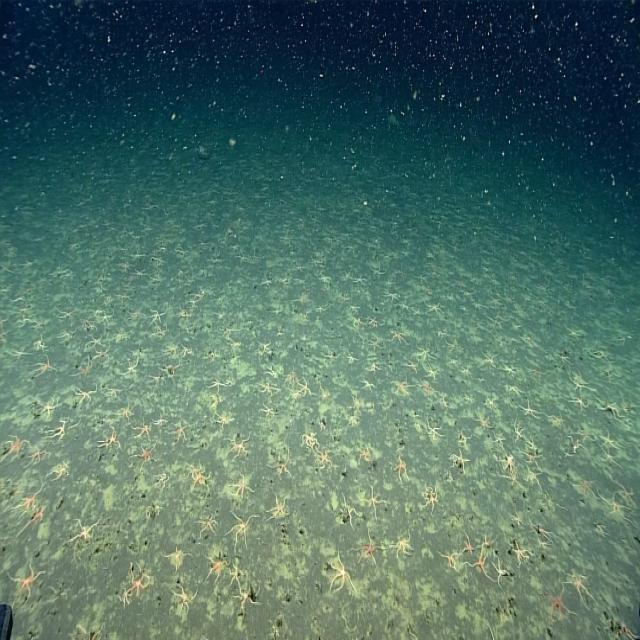brittle-stars: (6, 560, 44, 609), (567, 572, 597, 612), (227, 508, 255, 548), (331, 550, 355, 596), (542, 589, 576, 620), (599, 491, 632, 522), (468, 545, 494, 581), (355, 531, 381, 566), (172, 582, 198, 616), (268, 446, 292, 482), (363, 488, 386, 522), (11, 484, 41, 510), (69, 517, 100, 542), (163, 545, 190, 573), (1, 434, 28, 462), (340, 493, 360, 530), (18, 508, 44, 535), (229, 473, 256, 499), (205, 554, 228, 584), (265, 496, 290, 523), (490, 556, 509, 590), (390, 531, 413, 559), (233, 584, 261, 607), (438, 548, 466, 570), (127, 569, 147, 599), (195, 514, 218, 538), (510, 542, 533, 566), (226, 437, 251, 459), (77, 621, 105, 640), (134, 446, 157, 469), (599, 443, 621, 467), (568, 375, 595, 394), (393, 455, 410, 485), (450, 448, 471, 472), (169, 421, 189, 445), (70, 359, 94, 379), (44, 461, 66, 482), (42, 420, 65, 440), (38, 396, 58, 418), (131, 422, 153, 442), (574, 478, 596, 498), (524, 469, 544, 491), (518, 398, 540, 418), (74, 386, 97, 405), (424, 418, 444, 439), (422, 487, 437, 514), (100, 430, 120, 450), (598, 403, 623, 419), (35, 358, 56, 377), (522, 449, 544, 467), (227, 564, 243, 588), (300, 431, 318, 452), (506, 469, 524, 490), (415, 344, 436, 362), (185, 462, 206, 480), (316, 447, 331, 472), (599, 430, 617, 450), (619, 623, 640, 640), (474, 414, 493, 432), (208, 378, 228, 395), (296, 378, 313, 398), (480, 351, 500, 368), (145, 310, 167, 325), (54, 307, 77, 321), (122, 357, 138, 377), (118, 588, 134, 608), (148, 326, 170, 340), (389, 380, 411, 394), (116, 405, 134, 422), (390, 327, 407, 345), (570, 394, 588, 411), (577, 426, 594, 444), (215, 414, 235, 429), (157, 364, 182, 376), (459, 428, 472, 451), (536, 526, 554, 542), (192, 472, 210, 488), (568, 437, 584, 455), (501, 450, 514, 472), (425, 302, 445, 316), (57, 329, 78, 342), (93, 347, 110, 363), (508, 509, 524, 526), (258, 381, 277, 395), (421, 364, 440, 378), (461, 533, 473, 555), (349, 392, 361, 414), (359, 378, 376, 393), (479, 536, 496, 551), (502, 383, 523, 395), (564, 323, 582, 337), (28, 446, 44, 461), (356, 447, 371, 463), (86, 335, 103, 349), (369, 264, 387, 277), (592, 349, 610, 362), (527, 368, 548, 379), (502, 362, 517, 377), (484, 396, 499, 411), (257, 340, 271, 356), (492, 430, 505, 447), (514, 420, 524, 442), (419, 380, 434, 394), (367, 338, 382, 352), (322, 350, 341, 361), (149, 374, 166, 386), (156, 471, 168, 488), (81, 319, 98, 331), (260, 402, 274, 416), (444, 338, 458, 352), (404, 359, 419, 372), (548, 413, 563, 426), (556, 352, 572, 364), (103, 388, 122, 398), (285, 368, 295, 387), (263, 364, 276, 378), (150, 416, 167, 426), (33, 338, 46, 351), (485, 625, 496, 640), (595, 523, 607, 536), (319, 384, 328, 401), (344, 353, 358, 363), (440, 396, 449, 411), (369, 362, 381, 373), (180, 346, 192, 356), (351, 317, 363, 327), (353, 276, 366, 285), (460, 366, 471, 376), (368, 317, 376, 327)
